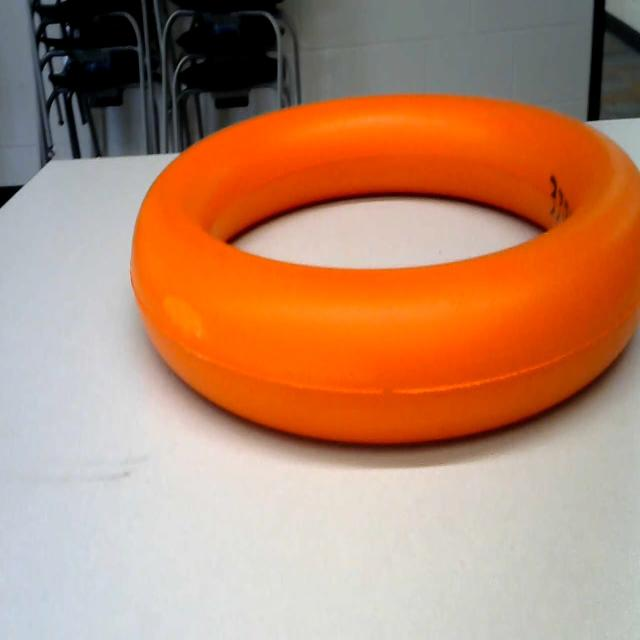note: (113, 81, 640, 493)
